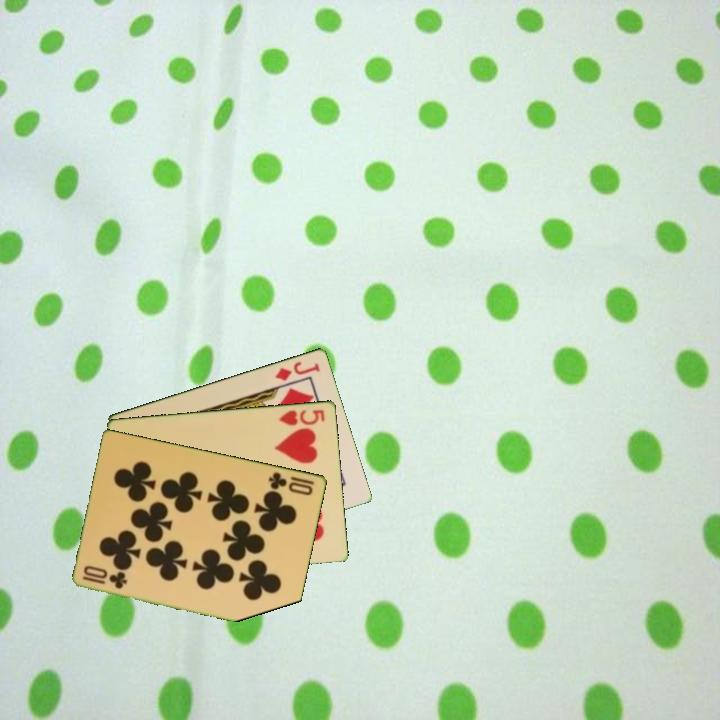10c: (265, 468, 318, 498), (79, 562, 130, 592)
5h: (276, 406, 328, 428)
Jd: (272, 357, 323, 383)
